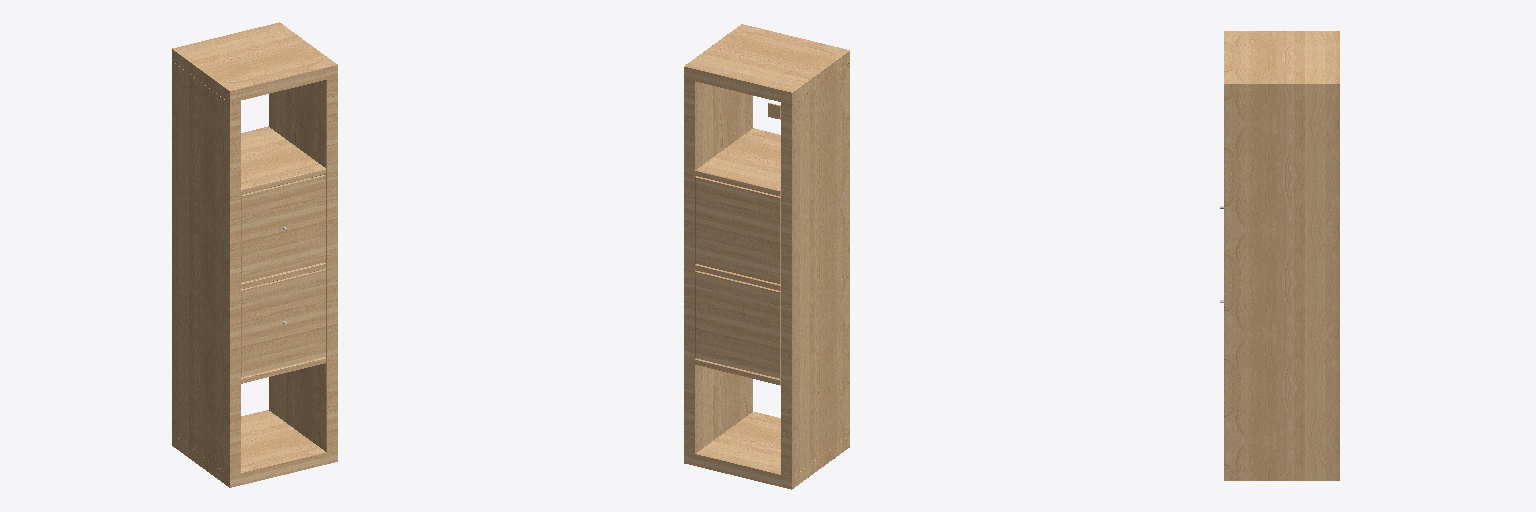
The picture shows the model from 3 angles: view 1: azimuth 30°, elevation 25°; view 2: azimuth 150°, elevation 25°; view 3: azimuth 270°, elevation 25°; orthographic projection.
Parts seen in each view (by area): view 1: Rectangle002, Rectangle003, Rectangle001, Rectangle013, Rectangle009, Rectangle004, Rectangle005, Rectangle014, Rectangle015; view 2: Rectangle002, Rectangle003, Rectangle001, Rectangle009, Rectangle013, Rectangle004, Rectangle005, Rectangle014, Rectangle015; view 3: Rectangle003, Rectangle001, Rectangle004.
Boxes of the visible parts, x1,y1,x2,y2 form: Rectangle002: [172, 61, 240, 475]; Rectangle003: [269, 77, 337, 451]; Rectangle001: [172, 22, 337, 102]; Rectangle013: [241, 269, 325, 376]; Rectangle009: [241, 175, 325, 282]; Rectangle004: [172, 410, 337, 487]; Rectangle005: [241, 126, 325, 194]; Rectangle014: [241, 262, 325, 288]; Rectangle015: [241, 357, 325, 383]; Rectangle002: [781, 63, 849, 476]; Rectangle003: [684, 79, 752, 453]; Rectangle001: [684, 24, 849, 104]; Rectangle009: [695, 176, 780, 283]; Rectangle013: [695, 271, 780, 378]; Rectangle004: [684, 412, 849, 489]; Rectangle005: [695, 128, 780, 196]; Rectangle014: [695, 264, 780, 290]; Rectangle015: [695, 359, 780, 385]; Rectangle003: [1224, 96, 1339, 468]; Rectangle001: [1224, 31, 1339, 95]; Rectangle004: [1224, 469, 1339, 480].
Bounding box in the file's own units: 420 × 1470 × 405.
Materials: 2 (1 with a texture image).